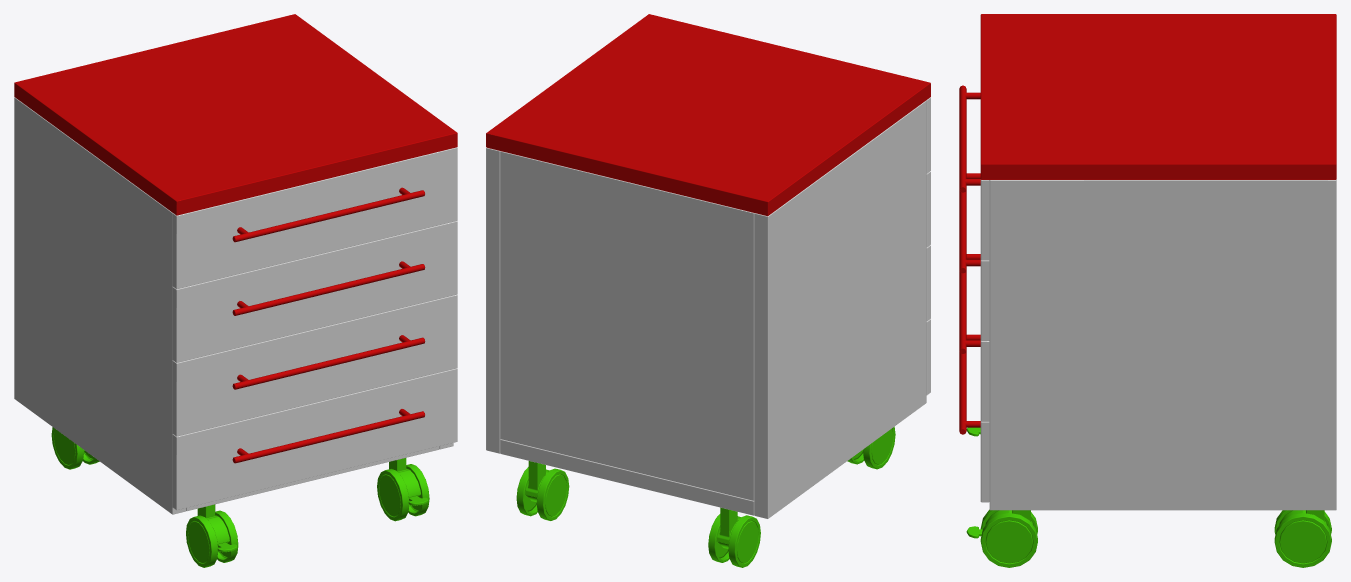
The model's file is UnderBench03.fbx.
The picture shows the model from 3 angles, left to right: view 1: azimuth 30°, elevation 25°; view 2: azimuth 150°, elevation 25°; view 3: azimuth 270°, elevation 25°; orthographic projection. The views are drawn at different scales.
Parts seen in each view (by area): view 1: UnderBench03, Drawer01, Drawer02, Drawer04, Drawer03; view 2: UnderBench03; view 3: UnderBench03, Drawer01, Drawer04, Drawer02, Drawer03.
Boxes of the visible parts, x1,y1,x2,y2 form: UnderBench03: (14, 14, 457, 567); Drawer01: (172, 147, 457, 289); Drawer02: (172, 221, 457, 362); Drawer04: (172, 368, 457, 510); Drawer03: (172, 294, 457, 436); UnderBench03: (486, 14, 930, 567); UnderBench03: (966, 14, 1336, 567); Drawer01: (959, 85, 989, 260); Drawer04: (959, 334, 989, 502); Drawer02: (959, 173, 989, 340); Drawer03: (959, 254, 989, 421).
Bounding box in the file's own units: 50 × 53 × 65.
